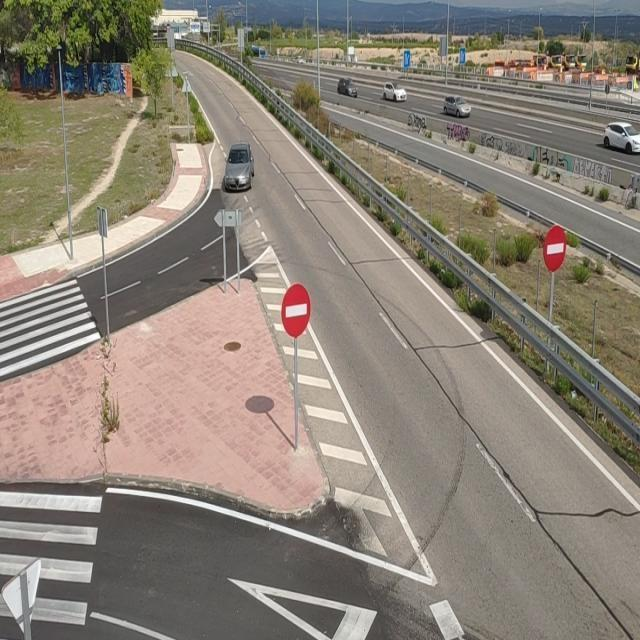Car: (222, 140, 254, 192), (601, 118, 640, 156), (442, 91, 470, 118), (384, 80, 409, 104), (336, 76, 358, 100)
